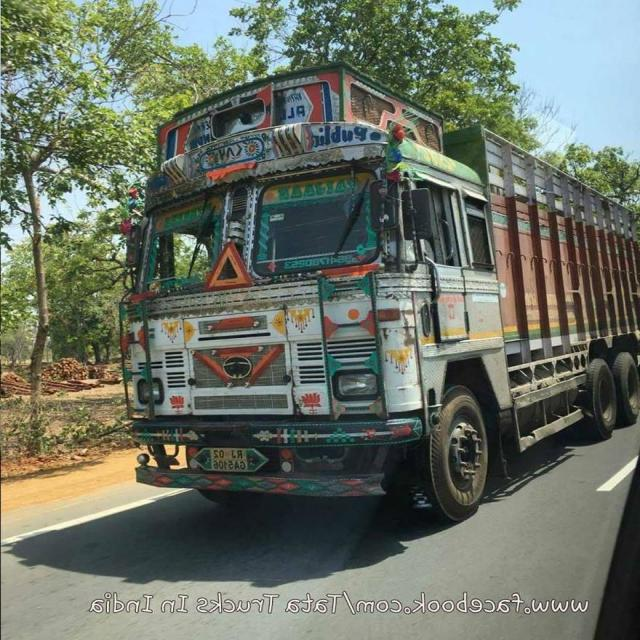truck: (105, 54, 640, 517)
